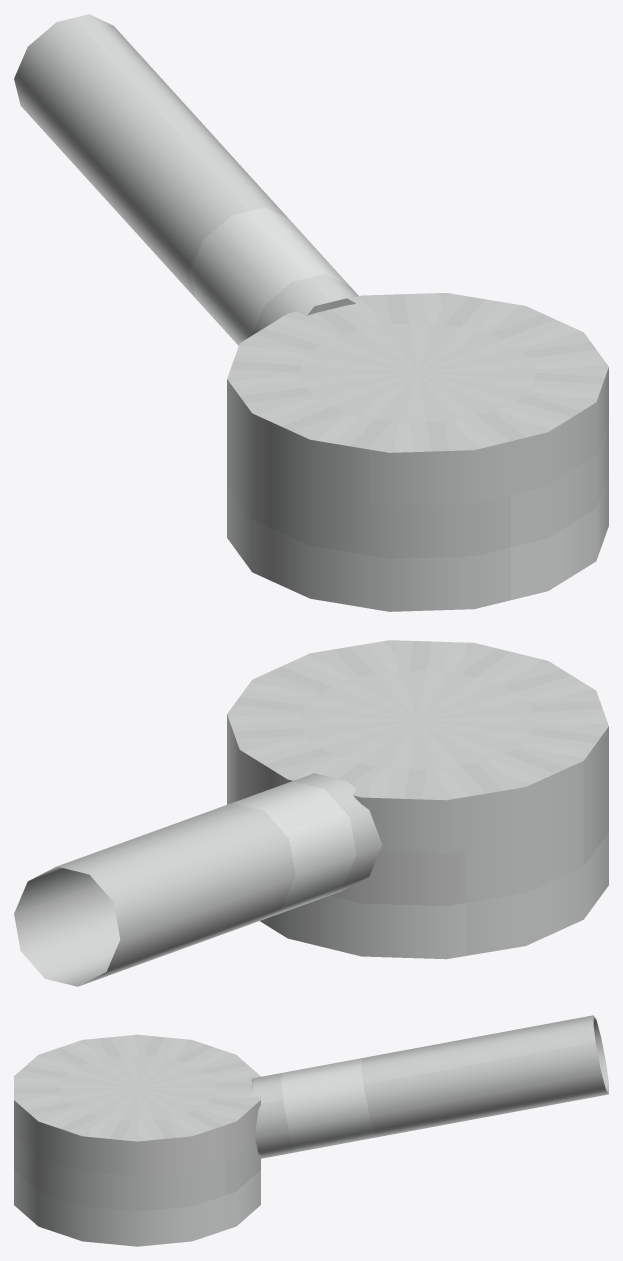
The model's file is trusssignalarm_level6_c1.obj.
3 renders of one model, top to bottom at view 1: azimuth 30°, elevation 25°; view 2: azimuth 150°, elevation 25°; view 3: azimuth 270°, elevation 25°, orthographic. The views are drawn at different scales.
Parts seen in each view (by area): view 1: trusssignalarm_level6_c1; view 2: trusssignalarm_level6_c1; view 3: trusssignalarm_level6_c1.
Part boxes in pixels (x1,y1,x2,y2): trusssignalarm_level6_c1: (14, 14, 608, 611); trusssignalarm_level6_c1: (14, 640, 608, 986); trusssignalarm_level6_c1: (14, 1015, 608, 1246).
Bounding box in the file's own units: 0.8188 × 0.6161 × 1.92.
